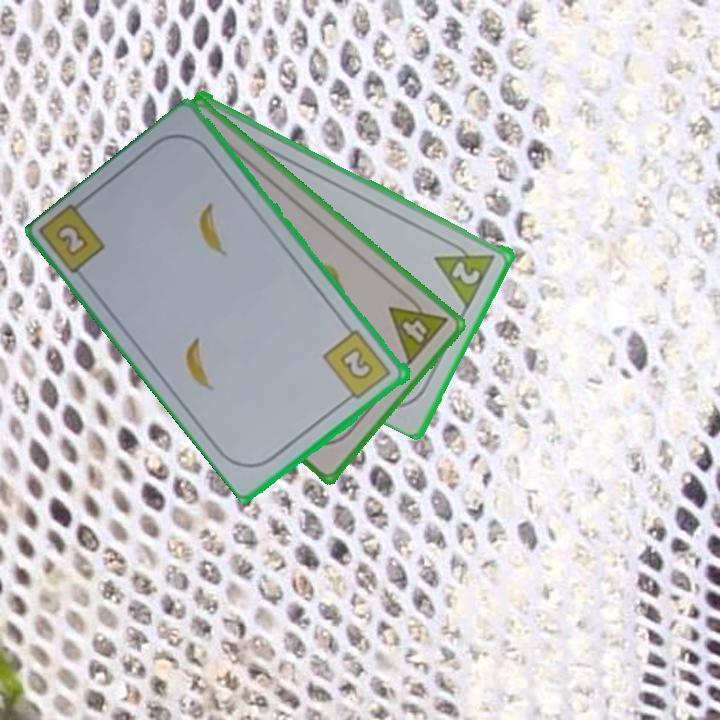2b: (320, 326, 395, 406), (52, 219, 92, 260)
2p: (448, 257, 484, 288)
4p: (385, 287, 451, 368)
